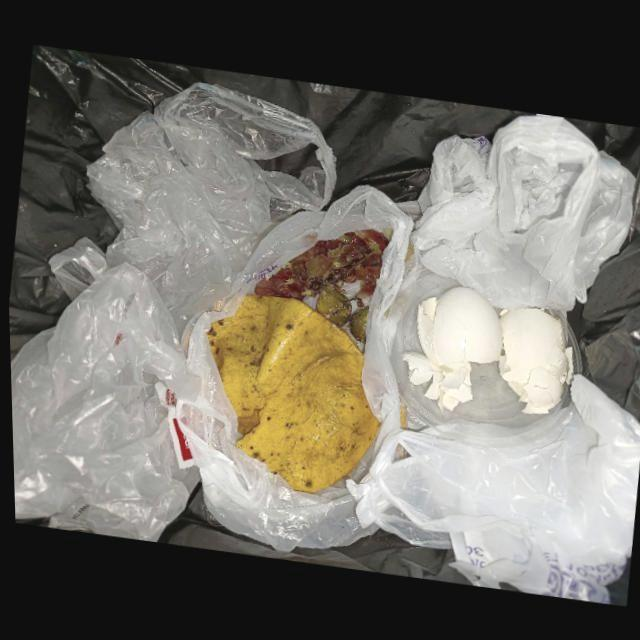plastic_bag: (46, 81, 335, 335), (342, 371, 640, 602), (162, 291, 376, 552), (8, 261, 198, 541), (408, 111, 635, 309), (228, 183, 412, 422)
